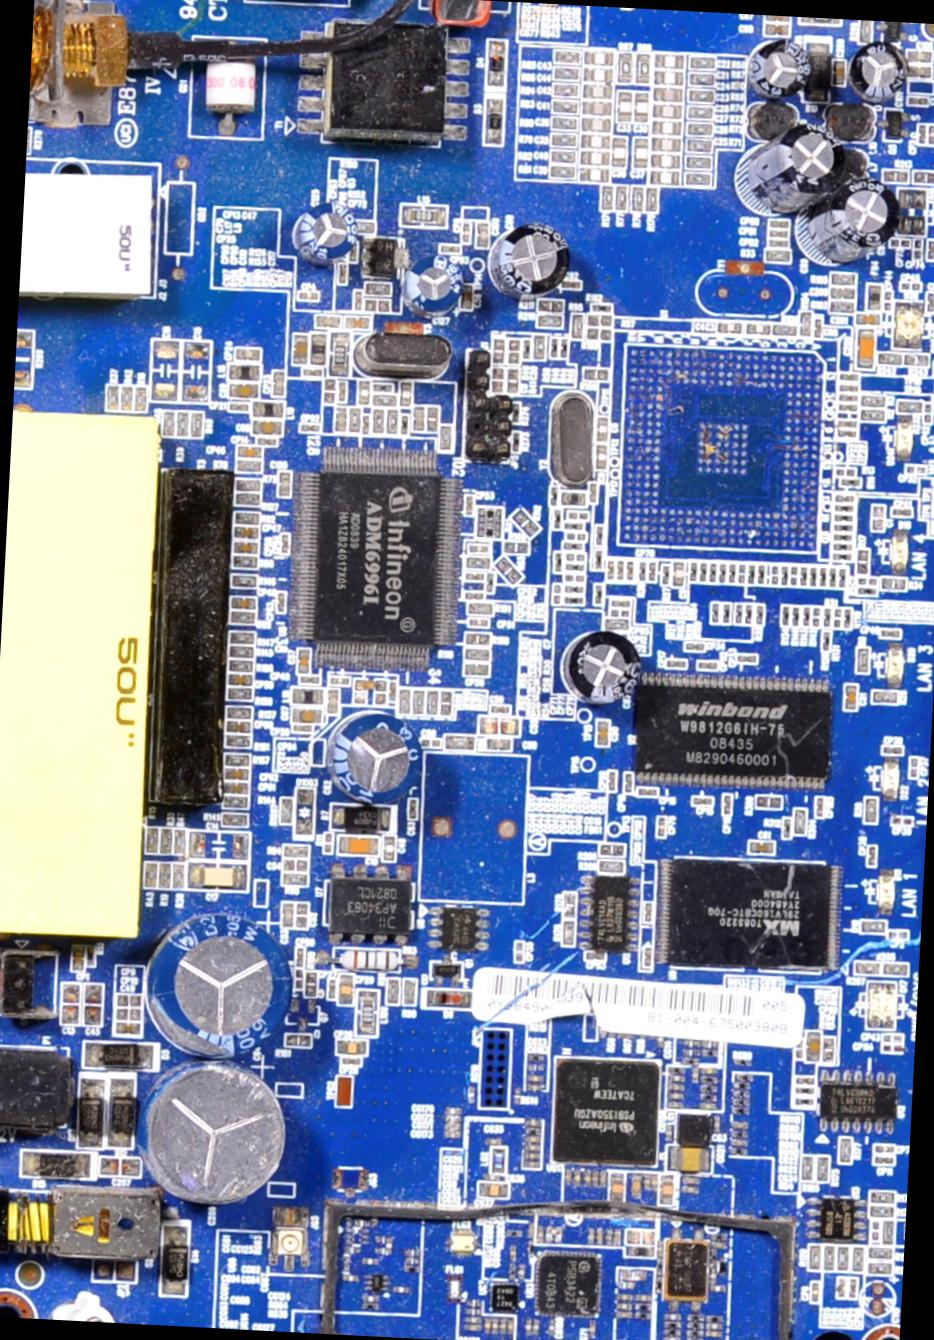Capacitor Jumper: (146, 904, 305, 1060), (148, 1061, 290, 1206), (326, 711, 431, 812), (560, 622, 644, 711), (773, 123, 849, 201), (833, 179, 906, 238), (754, 35, 814, 96), (849, 42, 909, 103), (150, 338, 183, 403), (188, 830, 252, 862), (182, 339, 214, 403), (185, 861, 250, 891), (14, 330, 40, 393), (853, 328, 879, 371), (58, 980, 83, 1025), (83, 981, 106, 1025), (336, 833, 381, 856), (908, 302, 927, 351), (98, 1158, 145, 1176), (893, 301, 909, 349), (611, 133, 631, 167), (658, 1174, 677, 1208), (336, 973, 356, 1005), (615, 91, 635, 123), (635, 52, 653, 86), (616, 51, 635, 85), (630, 134, 649, 168), (578, 132, 612, 150), (250, 418, 284, 436), (290, 708, 325, 725), (609, 1171, 628, 1202), (465, 439, 492, 460), (336, 1040, 371, 1056), (634, 90, 651, 122), (469, 410, 489, 438), (477, 1182, 510, 1198), (576, 148, 612, 163), (805, 1030, 821, 1063), (353, 677, 388, 692), (648, 153, 684, 167), (499, 716, 521, 738), (478, 715, 501, 736), (70, 941, 86, 973), (112, 1021, 145, 1037), (650, 119, 682, 134), (190, 409, 208, 438), (493, 411, 512, 437), (112, 1005, 144, 1020), (581, 100, 612, 115), (581, 116, 612, 131), (293, 332, 309, 364), (576, 167, 610, 181), (653, 86, 683, 101), (227, 594, 258, 609), (831, 57, 845, 90), (906, 63, 933, 80), (648, 136, 682, 150), (295, 646, 313, 672), (570, 313, 586, 342), (655, 55, 686, 69), (582, 83, 613, 98), (597, 720, 613, 747), (648, 170, 681, 183), (828, 286, 859, 300), (505, 367, 520, 395), (232, 525, 261, 541), (844, 684, 860, 713), (314, 314, 341, 329), (583, 366, 610, 381), (654, 70, 685, 83), (583, 67, 614, 80), (652, 104, 683, 117), (221, 780, 253, 793), (491, 396, 513, 414), (507, 336, 521, 365), (223, 718, 252, 732), (906, 49, 933, 64), (532, 334, 547, 360), (228, 384, 261, 396), (585, 51, 612, 65), (231, 540, 261, 553), (225, 672, 255, 685), (757, 794, 782, 809), (749, 839, 774, 854), (113, 993, 145, 1005), (163, 411, 177, 438), (465, 602, 494, 615), (383, 835, 397, 861), (472, 371, 491, 390), (346, 316, 371, 331), (471, 391, 489, 411), (471, 350, 492, 368), (763, 23, 790, 37), (490, 366, 503, 393), (236, 446, 264, 459), (358, 379, 371, 405), (221, 769, 252, 780), (855, 313, 880, 326), (597, 415, 609, 442), (492, 338, 504, 364), (86, 944, 99, 966), (835, 1277, 848, 1299), (766, 237, 791, 248), (275, 590, 286, 615), (625, 1228, 643, 1244), (809, 1281, 821, 1303), (596, 446, 608, 468), (641, 1228, 656, 1245), (514, 940, 526, 962), (848, 1276, 860, 1298), (648, 561, 659, 583), (693, 795, 715, 806), (874, 1143, 895, 1155), (723, 792, 733, 816), (925, 289, 933, 318), (441, 1129, 463, 1139), (463, 1323, 486, 1333), (768, 227, 790, 237), (616, 558, 625, 582), (769, 217, 790, 227), (497, 1317, 508, 1336), (625, 559, 635, 582), (796, 1074, 814, 1086), (26, 125, 34, 155), (838, 383, 859, 393), (607, 557, 616, 579), (506, 1317, 516, 1336), (462, 1323, 484, 1332), (764, 15, 791, 22), (700, 1066, 720, 1075), (570, 511, 589, 521), (662, 1313, 684, 1321), (547, 1319, 556, 1338), (840, 373, 860, 382), (490, 1317, 500, 1334), (666, 1091, 684, 1100), (698, 1101, 718, 1109), (442, 1120, 462, 1128), (704, 1330, 724, 1338), (667, 1082, 686, 1091), (666, 1100, 685, 1108), (728, 1138, 748, 1147), (705, 1322, 724, 1330), (484, 1316, 491, 1337), (730, 1120, 749, 1128), (634, 1293, 652, 1301), (615, 1302, 634, 1310), (589, 1320, 597, 1338), (667, 1074, 686, 1081), (444, 1106, 463, 1113), (615, 1293, 633, 1300), (443, 1114, 462, 1120), (615, 1311, 634, 1318), (661, 1335, 683, 1339)
IC: (291, 457, 464, 671), (636, 673, 840, 791), (659, 850, 839, 966), (554, 1057, 664, 1163), (572, 869, 652, 958), (820, 1069, 903, 1135), (329, 877, 413, 938), (534, 1248, 604, 1316), (796, 1193, 863, 1242), (441, 903, 479, 949), (38, 1151, 83, 1180), (77, 1096, 106, 1138), (165, 1244, 190, 1281), (490, 1282, 518, 1311), (362, 1273, 393, 1290), (117, 1262, 135, 1282), (436, 964, 463, 978)
Resistor Jumper: (897, 187, 928, 233), (475, 505, 505, 541), (329, 332, 349, 377), (310, 331, 329, 368), (291, 685, 326, 706), (227, 362, 264, 380), (559, 489, 589, 507), (221, 751, 252, 769), (222, 732, 254, 748), (828, 271, 861, 286), (233, 344, 264, 360), (220, 812, 251, 828), (276, 469, 293, 498), (857, 19, 875, 46), (134, 384, 151, 413), (228, 572, 259, 588), (226, 657, 257, 672), (224, 685, 255, 701), (233, 509, 262, 525), (228, 609, 257, 625), (143, 861, 159, 890), (105, 383, 120, 412), (233, 477, 263, 492), (796, 309, 811, 340), (764, 246, 791, 263), (866, 282, 882, 310), (176, 411, 193, 439), (256, 403, 286, 417), (233, 492, 262, 507), (799, 16, 841, 26), (172, 861, 188, 888), (552, 66, 582, 80), (548, 165, 578, 179), (551, 99, 579, 114), (686, 121, 714, 136), (716, 320, 744, 335), (272, 370, 287, 397), (235, 459, 263, 474), (222, 794, 250, 809), (802, 1155, 816, 1183), (688, 71, 716, 86), (551, 82, 580, 97), (684, 173, 713, 187), (120, 384, 134, 412), (227, 629, 256, 644), (850, 1246, 866, 1273), (552, 49, 583, 62), (685, 138, 713, 153), (748, 322, 775, 336), (227, 643, 255, 657), (160, 829, 174, 856), (686, 89, 716, 102), (549, 116, 579, 129), (224, 706, 254, 719), (867, 1244, 892, 1260), (855, 961, 881, 975), (824, 1243, 838, 1270), (684, 156, 713, 169), (231, 556, 260, 569), (865, 798, 879, 825), (159, 861, 172, 890), (828, 301, 859, 314), (866, 1262, 893, 1275), (858, 920, 887, 933), (549, 132, 579, 145), (690, 55, 716, 68), (686, 105, 713, 118), (549, 149, 578, 161), (829, 551, 858, 563), (794, 809, 809, 834), (839, 1137, 851, 1165), (174, 829, 186, 856), (881, 1219, 895, 1242), (836, 1246, 850, 1270), (828, 541, 858, 552), (539, 298, 563, 312), (816, 1157, 830, 1179), (913, 169, 933, 184), (756, 560, 767, 588), (149, 827, 160, 854), (829, 532, 859, 542), (810, 1246, 822, 1271), (227, 401, 252, 413), (298, 422, 323, 434), (836, 563, 848, 588), (831, 522, 860, 533), (884, 962, 908, 974), (870, 1190, 893, 1203), (870, 1205, 893, 1217), (773, 324, 799, 335), (754, 604, 767, 625), (793, 1095, 816, 1107), (881, 578, 905, 590), (743, 603, 755, 625), (536, 315, 562, 325), (727, 560, 737, 587), (807, 564, 818, 588), (800, 604, 811, 627), (832, 503, 858, 513), (747, 560, 757, 585), (906, 97, 929, 108), (818, 564, 828, 589), (708, 560, 718, 584), (717, 561, 727, 585), (828, 563, 837, 590), (721, 602, 733, 621), (839, 391, 860, 402), (281, 534, 292, 554), (688, 560, 698, 582), (822, 607, 833, 627), (832, 513, 857, 522), (780, 561, 789, 585), (698, 560, 707, 584), (257, 437, 278, 447), (638, 560, 648, 581), (782, 604, 791, 627), (735, 1072, 756, 1082), (801, 563, 809, 589), (729, 1129, 751, 1138), (711, 601, 720, 622), (790, 607, 800, 628), (730, 1106, 751, 1115), (560, 337, 569, 357), (733, 604, 744, 622), (925, 237, 933, 260), (524, 338, 532, 360), (699, 1083, 718, 1093), (686, 1313, 706, 1322), (463, 1316, 483, 1325), (685, 1329, 705, 1338), (524, 1317, 533, 1336), (823, 631, 832, 651), (729, 1147, 751, 1155), (549, 337, 557, 358), (700, 1075, 718, 1084), (732, 1088, 751, 1098), (634, 1310, 652, 1320), (533, 1319, 542, 1337), (730, 1098, 751, 1106), (564, 522, 585, 531), (844, 608, 853, 628), (814, 607, 822, 627), (884, 170, 897, 182), (563, 542, 586, 549), (813, 318, 822, 335), (663, 1321, 682, 1329), (662, 1329, 681, 1337), (552, 509, 560, 528), (668, 1066, 686, 1074), (839, 403, 858, 411), (698, 1094, 718, 1101), (635, 1302, 652, 1310), (706, 1315, 723, 1323), (731, 1081, 751, 1088), (364, 1302, 380, 1310), (686, 1322, 705, 1329), (858, 588, 874, 595), (796, 1088, 814, 1095), (902, 238, 912, 248), (890, 237, 898, 247), (915, 248, 922, 259), (914, 238, 922, 246)
